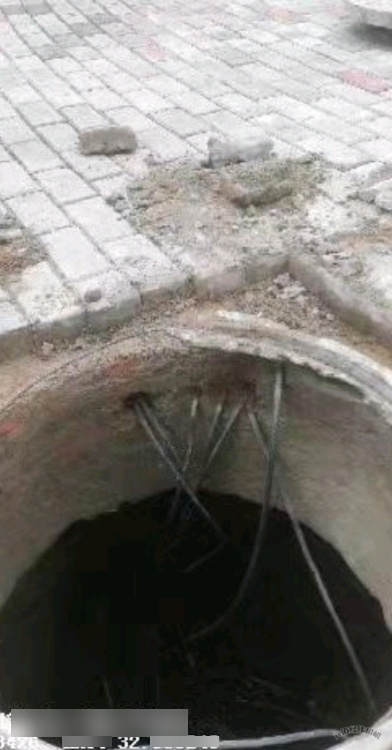lose: (3, 316, 392, 748)
